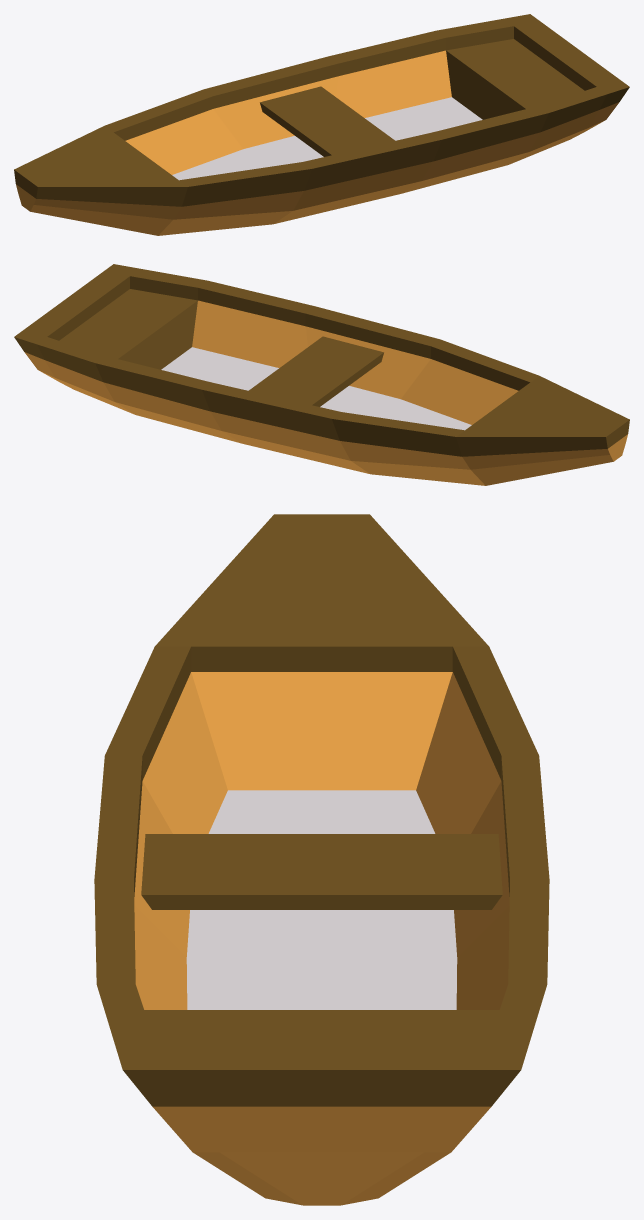
File: Boat_01.fbx
The picture shows the model from 3 angles, top to bottom: view 1: azimuth 30°, elevation 25°; view 2: azimuth 150°, elevation 25°; view 3: azimuth 270°, elevation 25°; orthographic projection. The views are drawn at different scales.
Visible parts, largest first — view 1: Cube; view 2: Cube; view 3: Cube.
Boxes of the visible parts, bbox=[...] form: Cube: bbox=[14, 14, 629, 235]; Cube: bbox=[14, 264, 629, 485]; Cube: bbox=[94, 514, 549, 1205].
Size of the model in its own units: 10.59 by 1.73 by 3.77.
